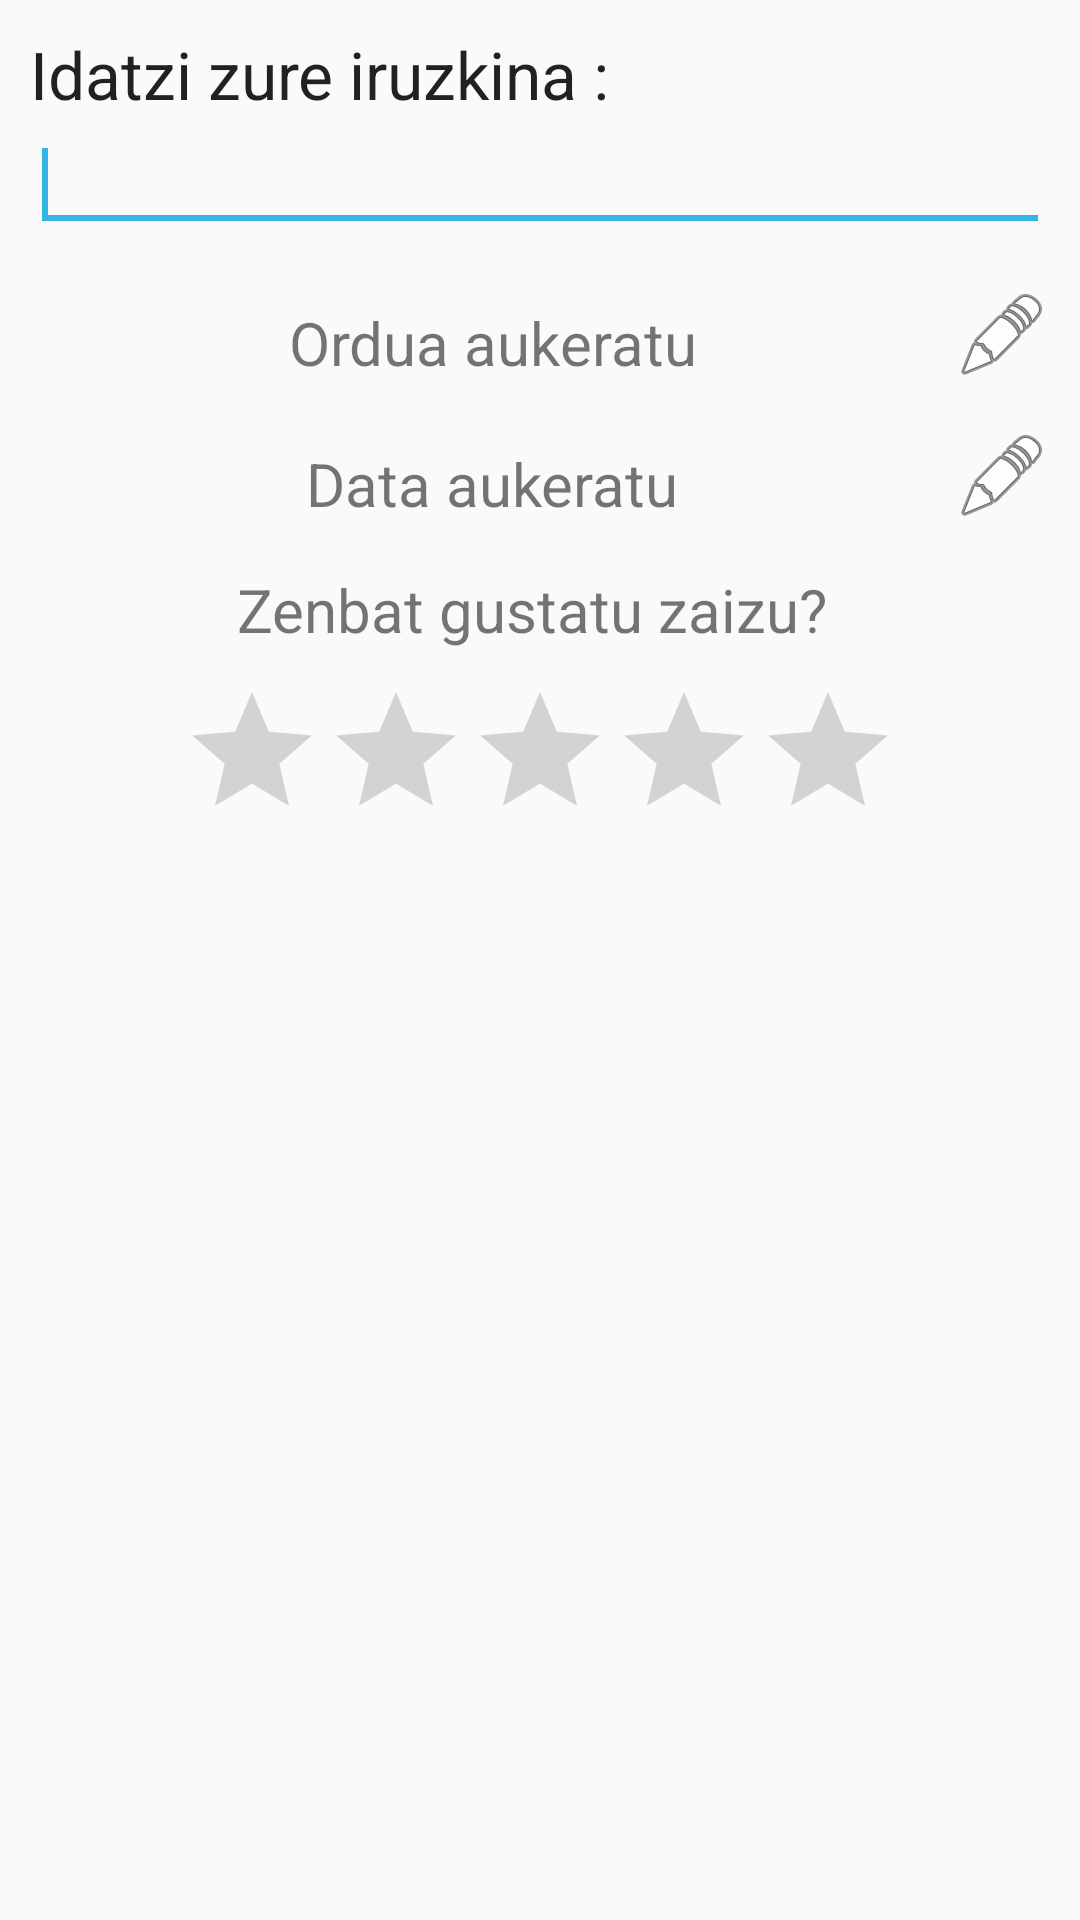

Screen size 1080px×1920px. Icon name, then its center in pixels as (x=x, y=y):
edit: (x=1001, y=334), (x=1001, y=475)
